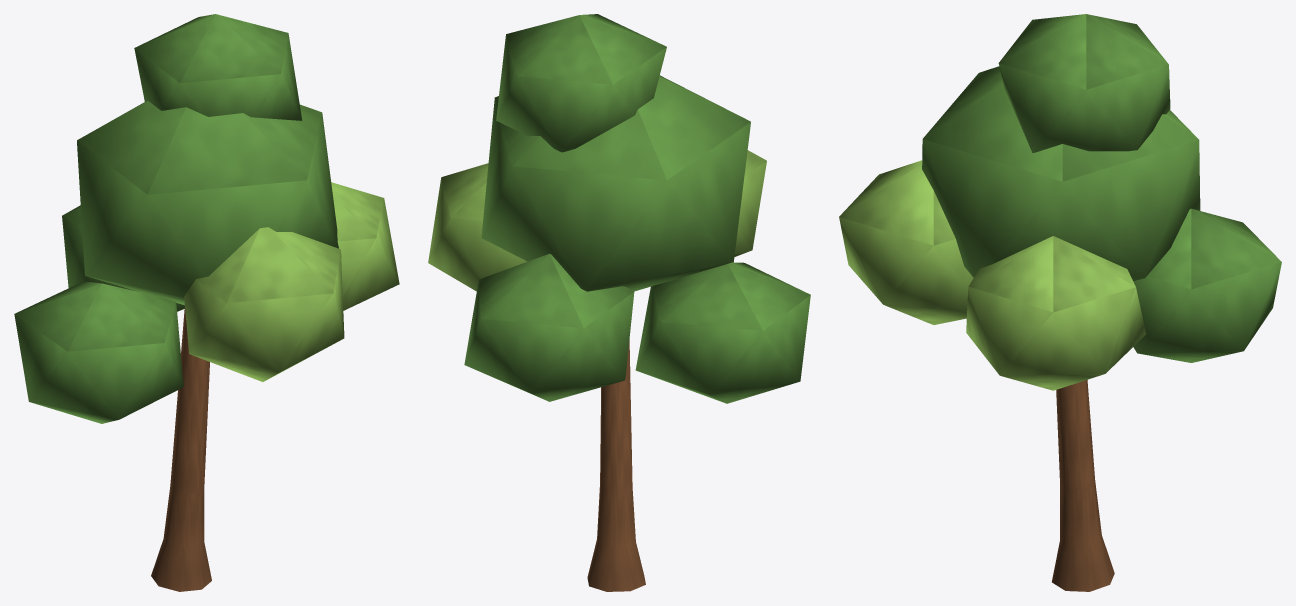
File: tree_young_01.glb
3 renders of one model, left to right at view 1: azimuth 30°, elevation 25°; view 2: azimuth 150°, elevation 25°; view 3: azimuth 270°, elevation 25°, orthographic. The views are drawn at different scales.
Visible parts, largest first — view 1: tree_young_01; view 2: tree_young_01; view 3: tree_young_01.
Part boxes in pixels (box(x1,y1,x2,y2)): tree_young_01: box(14, 14, 399, 591); tree_young_01: box(428, 14, 810, 591); tree_young_01: box(839, 14, 1281, 591).
Bounding box in the file's own units: 2.41 × 3.6 × 2.47.
1 material, 1 textured.
